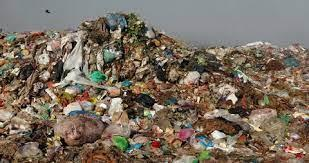Trash: (2, 22, 309, 163)
